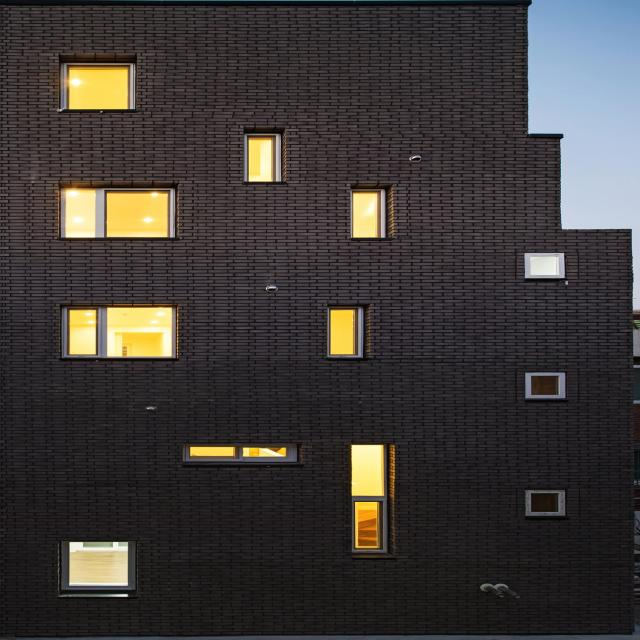wall: (1, 1, 639, 639)
windows: (64, 186, 176, 236), (67, 307, 173, 356), (354, 443, 389, 553), (63, 540, 133, 588), (66, 64, 134, 108), (247, 132, 282, 182), (330, 307, 365, 356), (354, 188, 387, 236), (189, 445, 294, 460), (530, 492, 562, 512), (532, 256, 562, 274), (534, 374, 560, 393)
